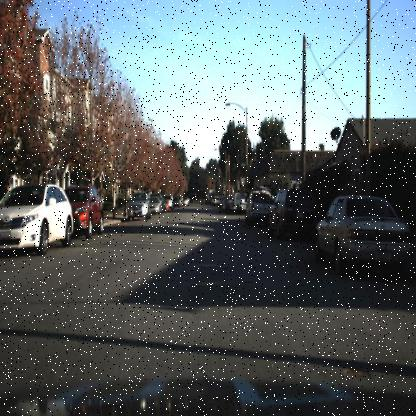car: (312, 194, 412, 276), (1, 184, 74, 256), (262, 184, 322, 240), (265, 187, 324, 238), (63, 182, 104, 236), (66, 183, 104, 236), (242, 186, 272, 224), (244, 188, 272, 224), (126, 187, 150, 220), (226, 190, 249, 216), (149, 196, 164, 217), (148, 194, 162, 216)
